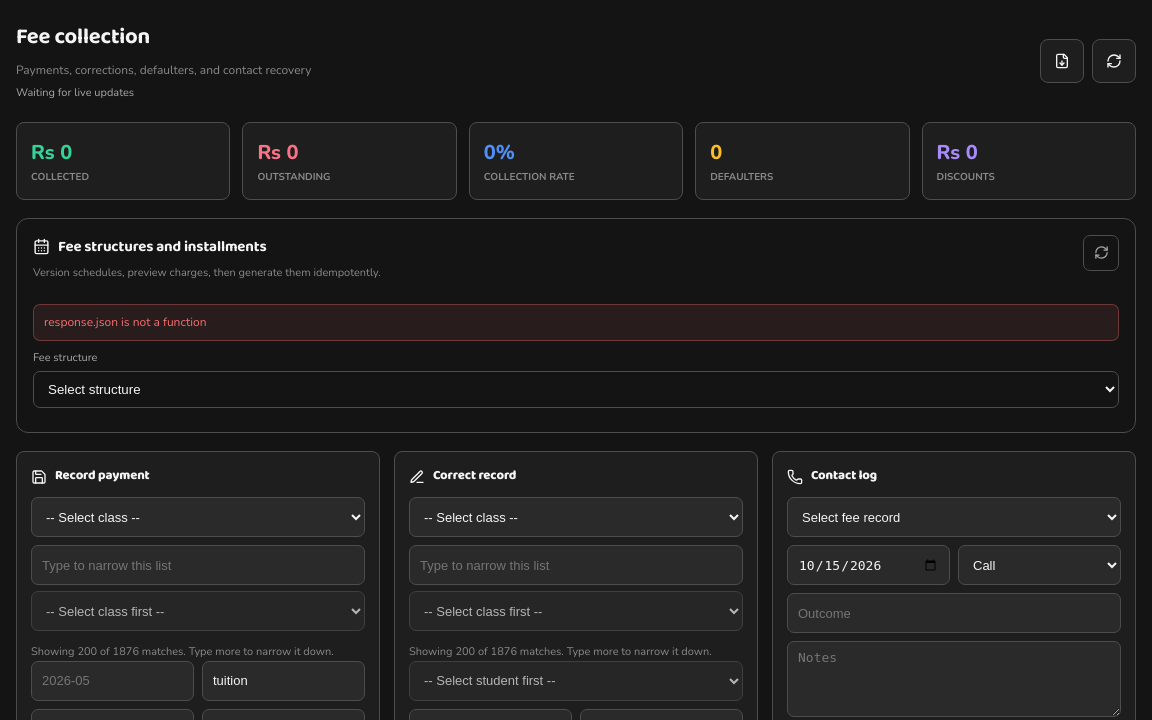
Test: the payment student list holds every child, not the first page of them
Later steps or results of the test are not shown.
expect the text with test id "payment-student-count" shows "Showing 200 of 1876 matches": met, box [31,644,334,659]
Type "Child 1876" into the search field named "Search Payment student".
click(198, 565); type("Child 1876")  # box [31,545,365,585]
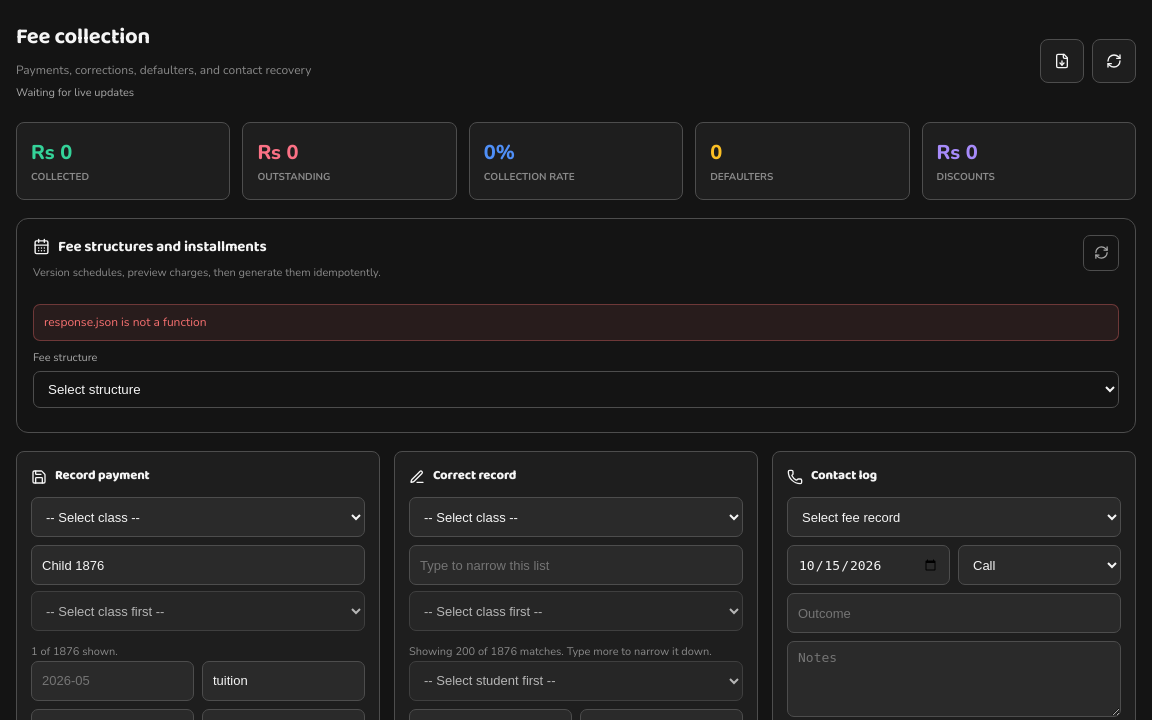
expect the text with test id "payment-student-count" shows "1 of 1876 shown": met, box [31,644,118,659]
